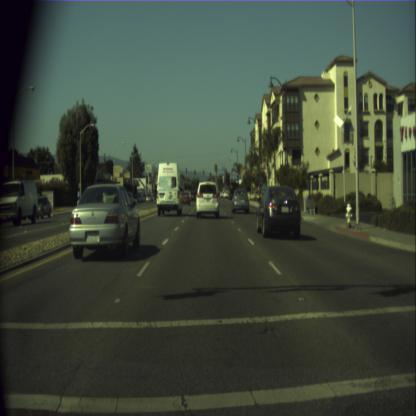off: (185, 167, 187, 173), (202, 170, 204, 175), (194, 170, 196, 174), (209, 172, 210, 176)
